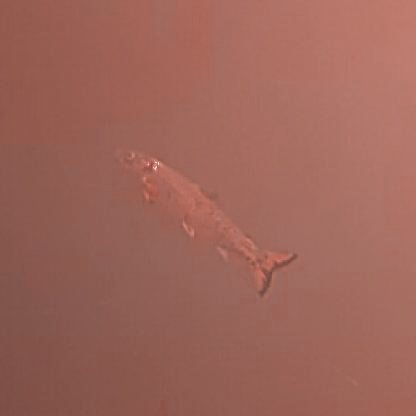salmon: (109, 141, 300, 298)
